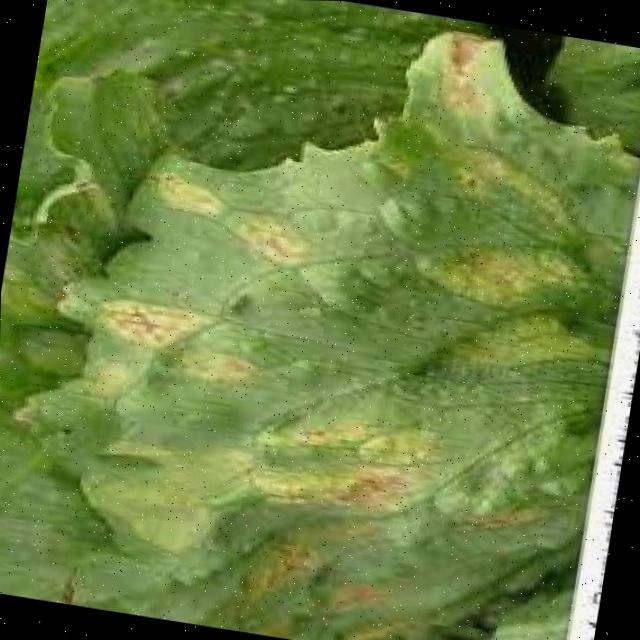Downy_Mildew: (0, 0, 626, 640)
